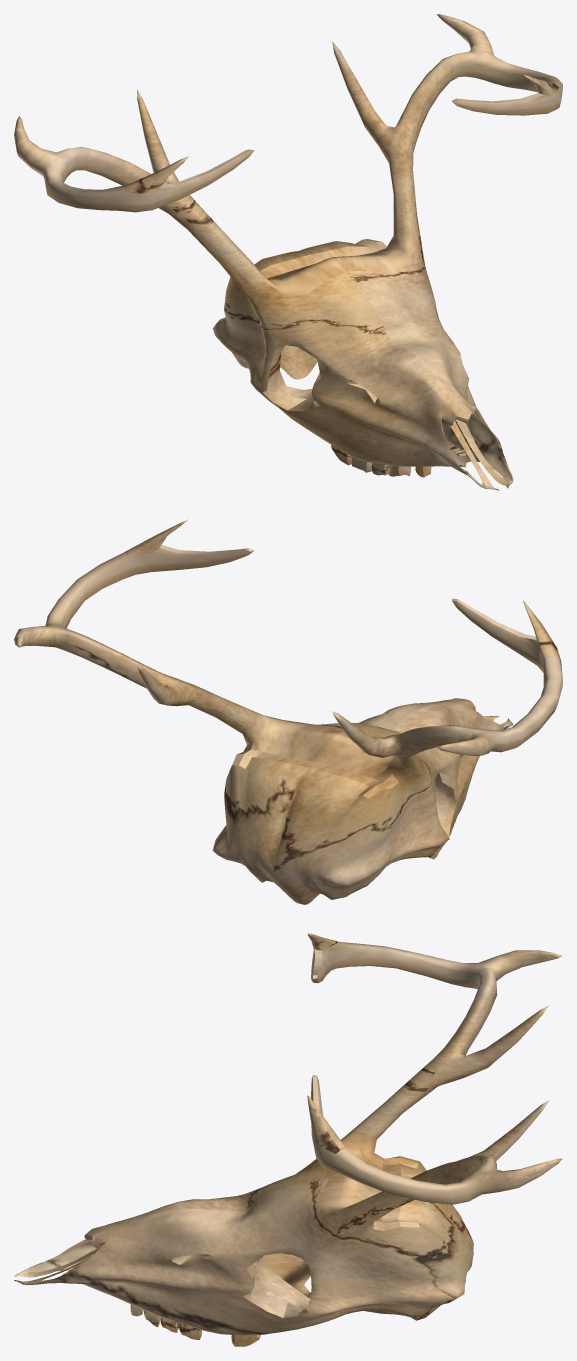
The model's file is craneo_venado.obj.
3 views of the same model, one above another, from view 1: azimuth 30°, elevation 25°; view 2: azimuth 150°, elevation 25°; view 3: azimuth 270°, elevation 25° (orthographic).
Visible parts, largest first — view 1: Deer_Skull; view 2: Deer_Skull; view 3: Deer_Skull.
Boxes of the visible parts, x1,y1,x2,y2 form: Deer_Skull: (14, 14, 562, 490); Deer_Skull: (14, 519, 562, 904); Deer_Skull: (14, 933, 562, 1346).
Bounding box in the file's own units: 11.73 × 7.22 × 11.58.
Materials: 1 (1 with a texture image).
